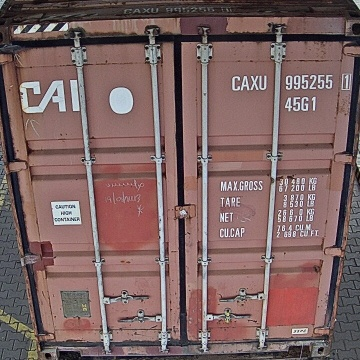serial_id: (232, 73, 350, 90)
